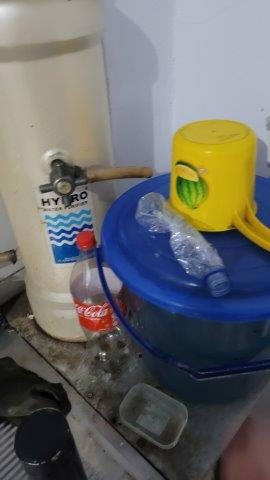botolplastik: (136, 192, 235, 299), (70, 232, 137, 372)
